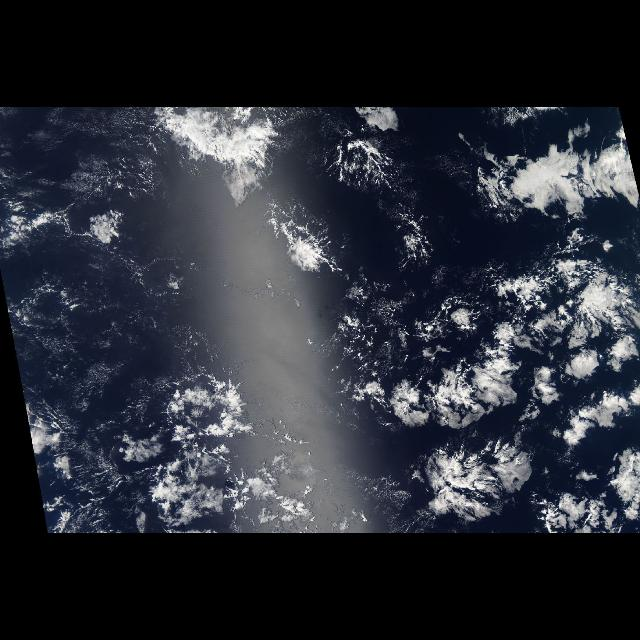Flower: (358, 135, 640, 533)
Sugar: (2, 147, 198, 380)
